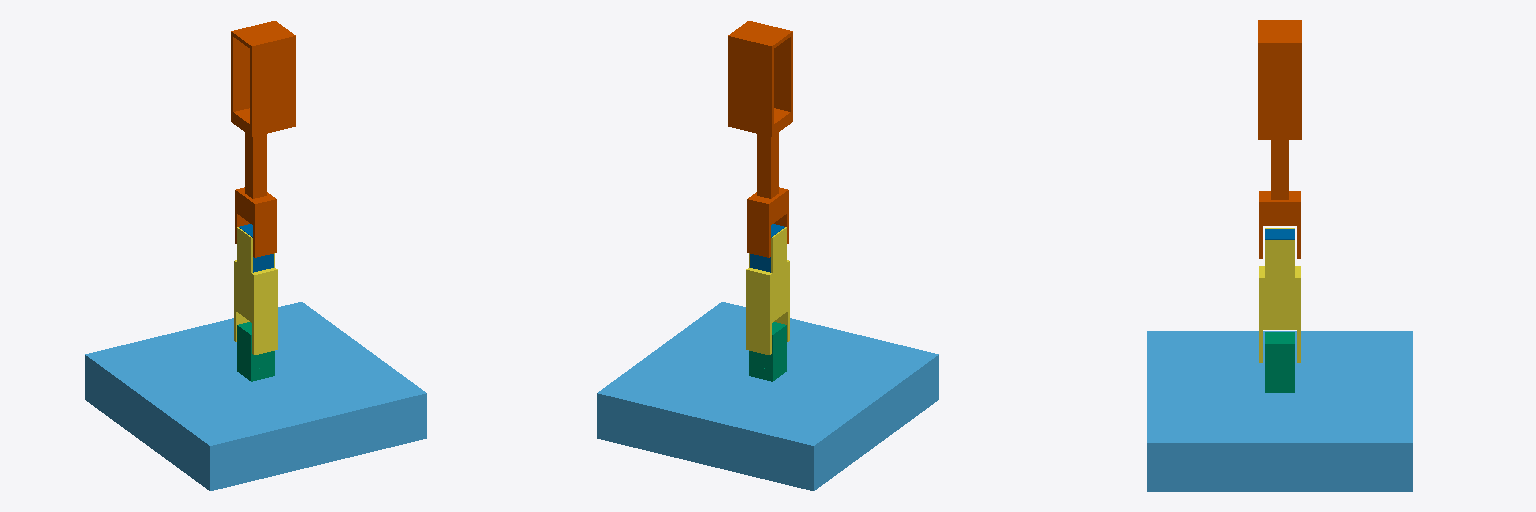
The robot description file, URDF, robot "RobotArm_NoCollision":
<?xml version="1.0" ?>
<robot name="RobotArm_NoCollision">
    
    <link name="world"/>
  <!-- body joint & link -->
  <joint name="body_joint" type="fixed">
    <origin xyz="0 0 0" rpy="0 0 0"/>
    <parent link="world"/>
    <child link="base_link"/>
  </joint>
  <link name="base_link">
    <collision>
      <origin rpy="0 0 0" xyz="0 0 0.03"/>
      <geometry>
        <box size="0.3 0.3 0.06"/>
      </geometry>
    </collision>
    <visual>
      <origin rpy="0 0 0" xyz="0 0 0.03"/>
      <geometry>
        <box size="0.3 0.3 0.06"/>
      </geometry>
      <material name="gray"/>
    </visual>
    <inertial>
      <origin rpy="0 0 0" xyz="0 0 0.075"/>
      <mass value="5"/>
      <inertia ixx="1.0" ixy="0.0" ixz="0.0" iyy="1.0" iyz="0.0" izz="1.0"/>
    </inertial>
  </link>

    <!-- shoulder joint & shoulder link -->
  <joint name="shoulder_joint" type="revolute">
    <parent link="base_link"/>
    <child link="shoulder_link"/>
    <origin rpy="0 0 0" xyz="0    0    0.06"/>           <!-- 0.044 -->
    <axis xyz="0 0 1"/>
    <limit effort="50.0" lower="-3.1416" upper="3.1416" velocity="3.0"/>
  </joint>
  
  <link name="shoulder_link">
    <inertial>
      <mass value="0.092"/>
      <origin rpy="0 0 0" xyz="0     0     0.0383"/>  <!-- 0.0383 -->
      <inertia ixx="0.000032" ixy="0.0" ixz="0.0" iyy="0.000037" iyz="0.0" izz="0.00002"/>
    </inertial>
    <visual>
      <origin rpy="0 0 0" xyz="0 0 0"/>
      <geometry>
        <mesh filename="package://robot_arm/stl/Arm_Shoulder_Simple.stl" scale="0.001 0.001 0.001"/>
      </geometry>
    </visual>
  </link>

    <!-- dxl1 joint & lower link -->
  <joint name="dxl430_1_joint" type="revolute">
    <parent link="shoulder_link"/>
    <child link="lower_link"/>
    <origin rpy="0 0 0" xyz="0     0     0.0506"/>
    <axis xyz="0 1 0"/>
    <limit effort="50.0" lower="-2.1817" upper="2.1817" velocity="3.0"/>
  </joint>

  <link name="lower_link">
    <inertial>
      <mass value="0.0376"/>
      <origin rpy="0 0 0" xyz="0   0   0.07"/>
      <inertia ixx="0.000055" ixy="0.0" ixz="0.0" iyy="0.000047" iyz="0.0" izz="0.000015"/>
    </inertial>
    <collision>
      <origin rpy="0 0 0" xyz="0     0    -0.013"/>
      <geometry>
        <mesh filename="package://robot_arm/stl/Arm_LowerArm_Simple.stl" scale="0.001 0.001 0.001"/>
      </geometry>
    </collision>
    <visual>
      <origin rpy="0 0 0" xyz="0     0    -0.013"/>
      <geometry>
        <mesh filename="package://robot_arm/stl/Arm_LowerArm_Simple.stl" scale="0.001 0.001 0.001"/>
      </geometry>
    </visual>
  </link>

    <!-- state joint & motor link -->
  <joint name="state_joint" type="fixed">
    <parent link="lower_link"/>
    <child link="motor_link"/>
    <origin rpy="0 0 0" xyz="0    0    0.093"/>
    <axis xyz="0 0 1"/>
    <limit effort="0.0" lower="-0.0" upper="0.0" velocity="0.0"/>
  </joint>

  <link name="motor_link">
    <inertial>
      <mass value="0.082"/>
      <origin rpy="0 0 0" xyz="0 0 0"/>
      <inertia ixx="0.000023" ixy="0.0" ixz="0.0" iyy="0.000021" iyz="0.0" izz="0.000014"/>
    </inertial>
    <visual>
      <origin rpy="0 0 0" xyz="0     0     0.0235"/>
      <geometry>
        <box size="0.029 0.034 0.047"/>
      </geometry>
    </visual>
  </link>


    <!-- dxl2 joint & upper link   -->
  <joint name="dxl430_2_joint" type="revolute">
    <parent link="motor_link"/>
    <child link="upper_link"/>
    <origin rpy="0     0     1.5708" xyz="0     0     0.0356"/>
    <axis xyz="1 0 0"/>
    <limit effort="100.0" lower="-2.1817" upper="2.1817" velocity="2.0"/>
  </joint>

  <link name="upper_link">
    <inertial>
      <mass value="0.0757"/>
      <origin rpy="0 0 0" xyz="0   -0.01  0.14"/>
      <inertia ixx="0.00025" ixy="0.0" ixz="0.0" iyy="0.00025" iyz="0.0" izz="0.000083"/>
    </inertial>
    <collision>
      <origin rpy="0 0 0" xyz="0     0    -0.013"/>
      <geometry>
        <mesh filename="package://robot_arm/stl/Arm_UpperArm_Simple.stl" scale="0.001 0.001 0.001"/>
      </geometry>
    </collision>
    <visual>
      <origin rpy="0 0 0" xyz="0     0    -0.013"/>
      <geometry>
        <mesh filename="package://robot_arm/stl/Arm_UpperArm_Simple.stl" scale="0.001 0.001 0.001"/>
      </geometry>
    </visual>
  </link>

<!-- transmission -->
  <transmission name="kata_trans">
    <type>transmission_interface/SimpleTransmission</type>
    <joint name="shoulder_joint">
      <hardwareInterface>hardware_interface/PositionJointInterface</hardwareInterface>
    </joint>
    <actuator name="dxl540_motor">
       <hardwareInterface>hardware_interface/PositionJointInterface</hardwareInterface>
       <mechanismReduction>1</mechanismReduction>
    </actuator>
  </transmission>

  <transmission name="hiji_trans">
    <type>transmission_interface/SimpleTransmission</type>
    <joint name="dxl430_1_joint">
      <hardwareInterface>hardware_interface/PositionJointInterface</hardwareInterface>
    </joint>
    <actuator name="dxl430_motor1">
       <hardwareInterface>hardware_interface/PositionJointInterface</hardwareInterface>
       <mechanismReduction>1</mechanismReduction>
    </actuator>
  </transmission>

  <transmission name="tekubi_trans">
    <type>transmission_interface/SimpleTransmission</type>
    <joint name="dxl430_2_joint">
      <hardwareInterface>hardware_interface/PositionJointInterface</hardwareInterface>
    </joint>
    <actuator name="dxl430_motor2">
       <hardwareInterface>hardware_interface/PositionJointInterface</hardwareInterface>
       <mechanismReduction>1</mechanismReduction>
    </actuator>
  </transmission>

  <!-- Gazebo -->
  <gazebo reference="lower_link">
    <material>Gazebo/Blue</material>
  </gazebo>

    <gazebo reference="upper_link">
    <material>Gazebo/Red</material>
  </gazebo>

  <gazebo>
    <plugin name="gazebo_ros_control" filename="libgazebo_ros_control.so">
      <robotNamespace>/RobotArm_NoCollision</robotNamespace>
      <robotSimType>gazebo_ros_control/DefaultRobotHWSim</robotSimType>
      <legacyModeNS>true</legacyModeNS>
    </plugin>
  </gazebo>

</robot>

--- Render facts (derived) ---
The picture shows the robot from 3 angles, left to right: view 1: azimuth 30°, elevation 25°; view 2: azimuth 150°, elevation 25°; view 3: azimuth 270°, elevation 25°; orthographic projection.
Model RobotArm_NoCollision with 6 links and 5 joints (3 revolute, 2 fixed), rooted at world, posed every joint at zero.
Visible links, largest first — view 1: base_link, upper_link, lower_link, shoulder_link; view 2: base_link, upper_link, lower_link, shoulder_link; view 3: base_link, upper_link, lower_link, shoulder_link.
Boxes of the visible links, x1=… form: base_link: x1=85, y1=302, x2=426, y2=490; upper_link: x1=231, y1=21, x2=295, y2=257; lower_link: x1=234, y1=227, x2=277, y2=354; shoulder_link: x1=237, y1=322, x2=274, y2=381; base_link: x1=597, y1=302, x2=938, y2=490; upper_link: x1=728, y1=21, x2=792, y2=257; lower_link: x1=746, y1=227, x2=789, y2=354; shoulder_link: x1=749, y1=322, x2=786, y2=381; base_link: x1=1147, y1=331, x2=1412, y2=491; upper_link: x1=1258, y1=20, x2=1301, y2=258; lower_link: x1=1259, y1=228, x2=1300, y2=362; shoulder_link: x1=1265, y1=332, x2=1294, y2=392.
Size in the robot's own frame: 0.3 by 0.3 by 0.5072 metres.
3 mesh visuals loaded from 3 distinct referenced files (3 ASCII STL).